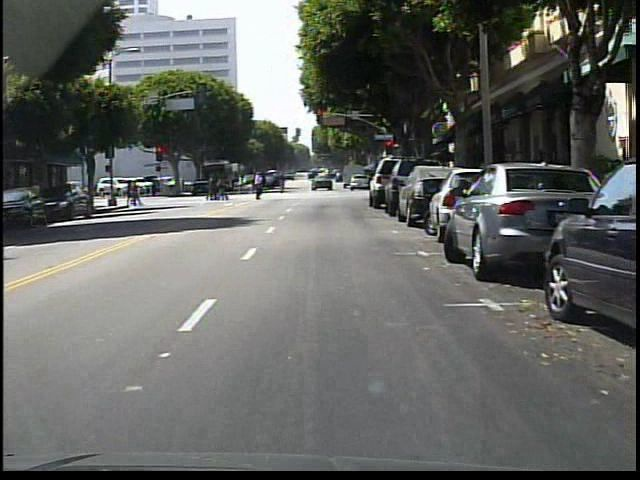person: (247, 169, 269, 202)
